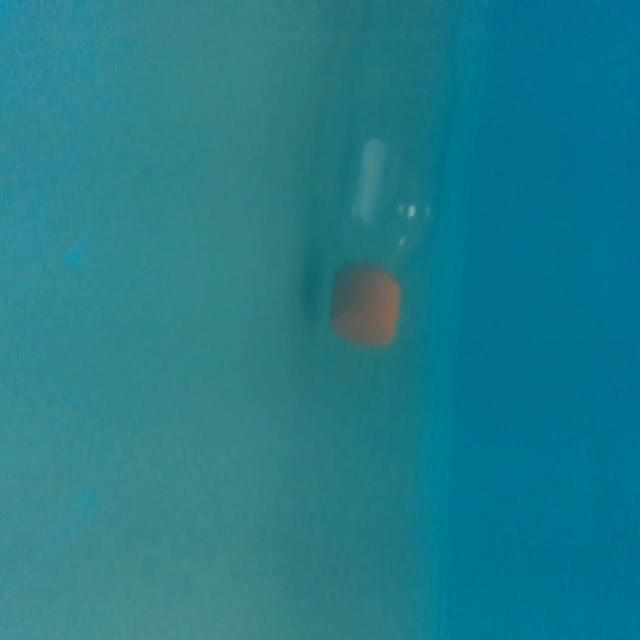plastic bottle: (286, 0, 484, 358)
